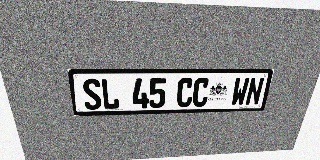4: (132, 78, 149, 109)
5: (149, 78, 166, 108)
C: (176, 78, 194, 107), (192, 78, 210, 107)
L: (100, 78, 120, 109)
N: (244, 77, 265, 105)
S: (81, 79, 102, 110)
W: (230, 77, 250, 106)
